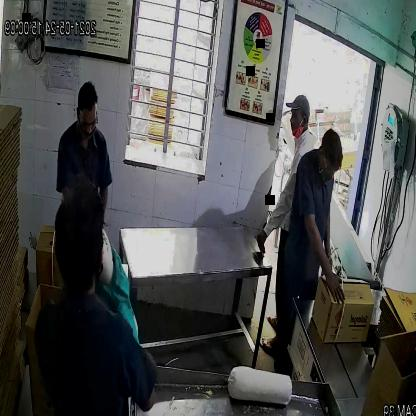goggles: (74, 114, 100, 136)
